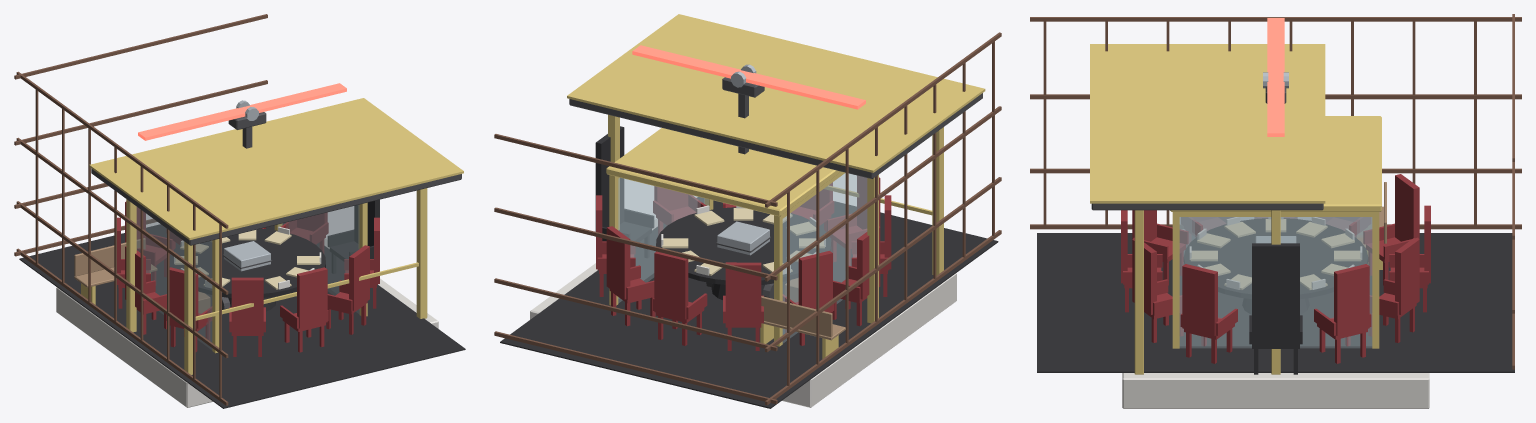
File: tower_secret.glb
The picture shows the model from 3 angles, left to right: view 1: azimuth 30°, elevation 25°; view 2: azimuth 150°, elevation 25°; view 3: azimuth 270°, elevation 25°; orthographic projection. The views are drawn at different scales.
Parts seen in each view (by area): view 1: tr_station_mesh, dz_room_mesh, dz_table_mesh, tr_cab_mesh, tr_pylon_mesh; view 2: tr_station_mesh, dz_room_mesh, dz_table_mesh, tr_cab_mesh, tr_pylon_mesh; view 3: tr_station_mesh, dz_room_mesh, dz_table_mesh, tr_cab_mesh.
Part boxes in pixels (x1,y1,x2,y2): tr_station_mesh: (56,98,463,407); dz_room_mesh: (14,14,465,408); dz_table_mesh: (117,199,379,356); tr_cab_mesh: (136,100,367,353); tr_pylon_mesh: (223,241,272,271); tr_station_mesh: (530,14,985,407); dz_room_mesh: (494,32,1001,408); dz_table_mesh: (595,126,891,350); tr_cab_mesh: (606,64,867,346); tr_pylon_mesh: (716,221,770,255); tr_station_mesh: (1090,44,1429,408); dz_room_mesh: (1030,14,1521,372); dz_table_mesh: (1121,174,1430,374); tr_cab_mesh: (1170,72,1381,348).
Bounding box in the file's own units: 5.44 × 4.27 × 7.2.
